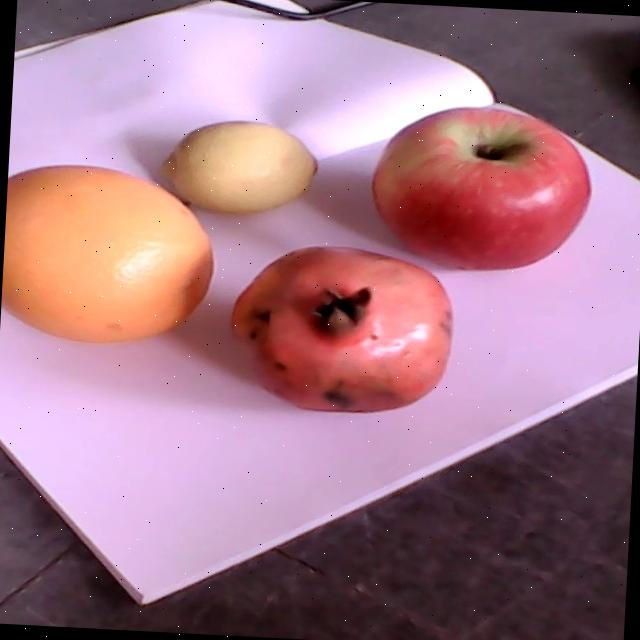apple: (370, 106, 592, 273)
lemon: (157, 119, 319, 215)
orange: (3, 165, 211, 346)
pomegranate: (230, 245, 450, 413)
